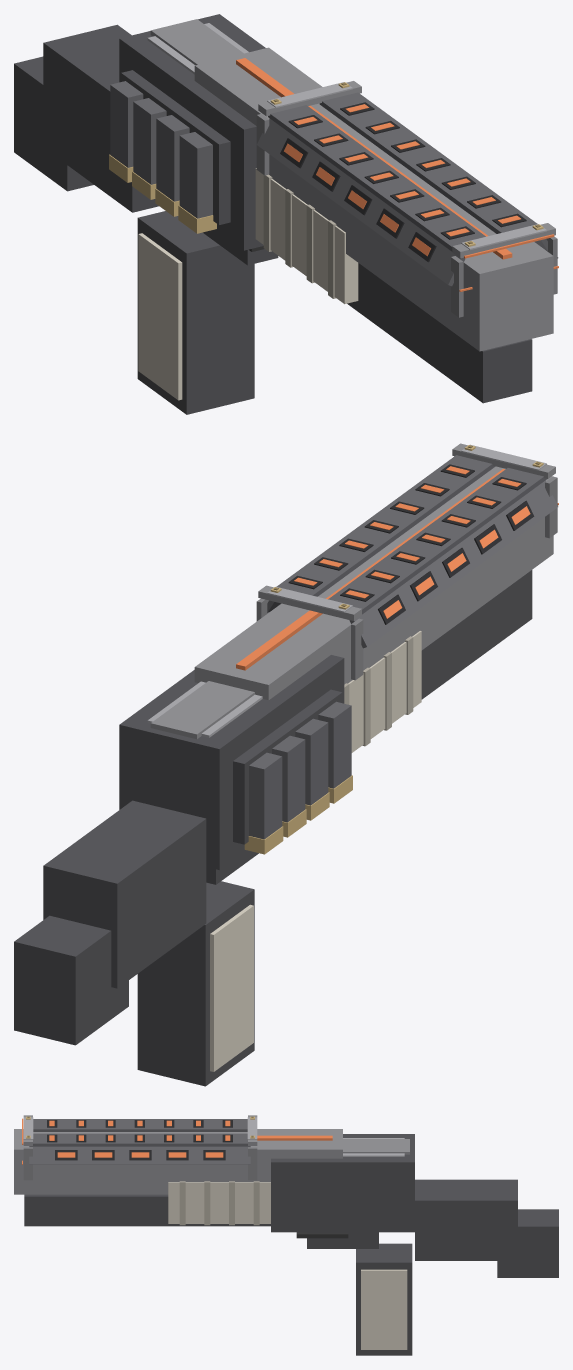
Rendered from shotgun.glb.
3 renders of one model, top to bottom at view 1: azimuth 30°, elevation 25°; view 2: azimuth 150°, elevation 25°; view 3: azimuth 270°, elevation 25°, orthographic. The views are drawn at different scales.
Visible parts, largest first — view 1: steel, black.006, black.003, black, black.001, bone.001, heatshield plate, heatshield plate.001, bone, heatshield skirt, black.004, black.002 (+19 smaller); view 2: black.003, steel, black.001, black.006, black.004, bone.001, heatshield plate, heatshield plate.001, black, heatshield skirt, bone, steel.001 (+8 smaller); view 3: black.001, steel, black.003, black, bone.002, bone, black.004, heatshield skirt.001, black.006, heatshield plate.001, heatshield plate, black.005 (+9 smaller).
Part boxes in pixels (box(x1,y1,x2,y2)): steel: box(194, 47, 553, 351); black.006: box(137, 211, 254, 414); black.003: box(43, 24, 158, 212); black: box(347, 263, 532, 403); black.001: box(119, 14, 265, 250); bone.001: box(138, 233, 182, 400); heatshield plate: box(268, 105, 485, 251); heatshield plate.001: box(319, 92, 537, 233); bone: box(255, 168, 358, 304); heatshield skirt: box(257, 118, 465, 286); black.004: box(14, 56, 93, 191); black.002: box(121, 70, 230, 224); black.003: box(43, 800, 206, 988); steel: box(194, 466, 553, 700); black.001: box(119, 655, 344, 869); black.006: box(137, 881, 254, 1086); black.004: box(14, 915, 128, 1045); bone.001: box(210, 904, 253, 1071); heatshield plate: box(328, 468, 546, 614); heatshield plate.001: box(276, 455, 495, 596); black: box(421, 570, 532, 699); heatshield skirt: box(349, 480, 558, 648); bone: box(348, 631, 421, 752); steel.001: box(150, 681, 254, 739); black.001: box(271, 1134, 414, 1232); steel: box(14, 1129, 342, 1194); black.003: box(415, 1179, 517, 1260); black: box(24, 1194, 270, 1226); bone.002: box(361, 1269, 407, 1349); bone: box(168, 1182, 270, 1223); black.004: box(497, 1209, 558, 1277); heatshield skirt.001: box(29, 1146, 250, 1164); black.006: box(356, 1243, 412, 1355); heatshield plate.001: box(29, 1133, 250, 1146); heatshield plate: box(33, 1119, 247, 1131); black.005: box(307, 1232, 378, 1248).
Bounding box in the file's own units: 0.0863 × 0.2356 × 0.53.
